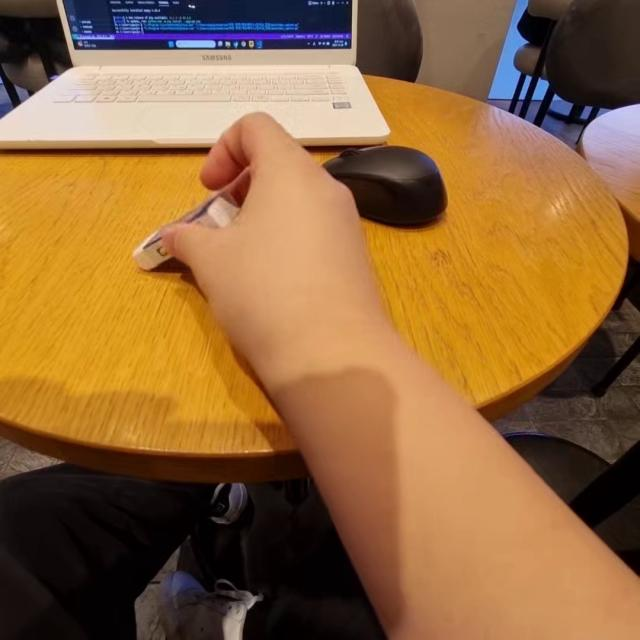eraser: (102, 185, 245, 278)
grab_eraser: (140, 111, 370, 389)
hand: (188, 106, 365, 362)
mouse: (319, 138, 456, 240)
